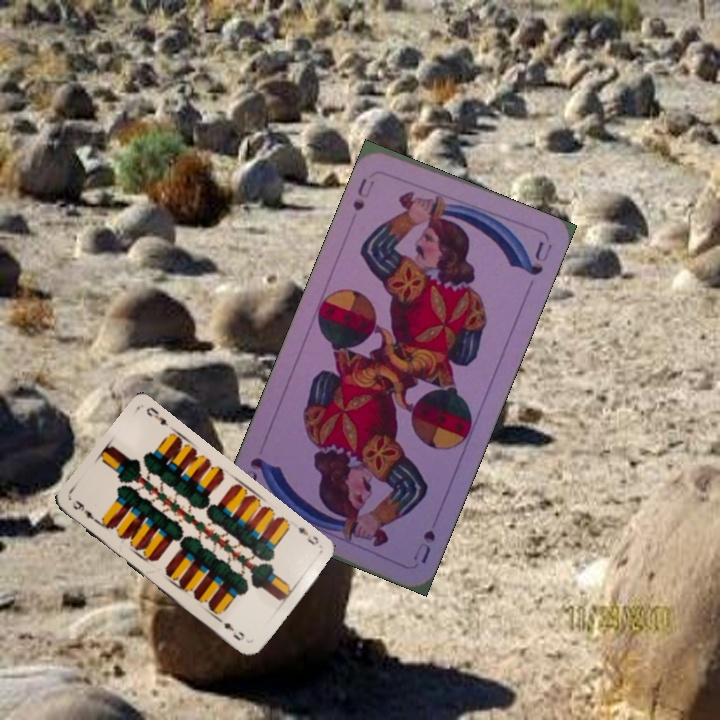E9: (68, 496, 103, 527), (294, 523, 321, 548)
SU: (409, 525, 438, 566), (348, 173, 370, 214)
